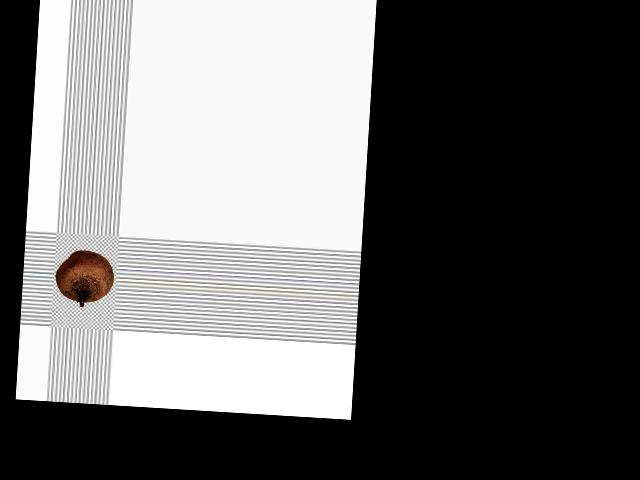beet: (53, 249, 114, 309)
